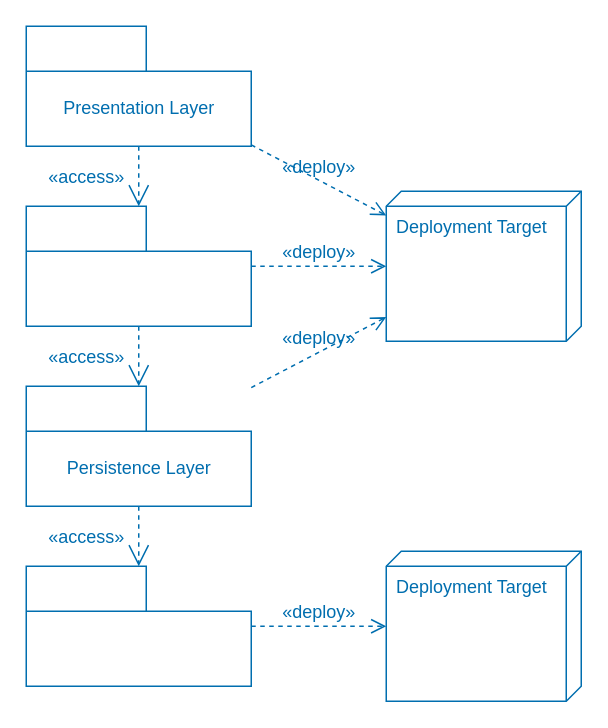
This 608x728 diagram has some shape labels left out. The centre of each missing label's shape, as x and y in pixels:
Business Layer: (138,265)
Database Layer: (138,625)
